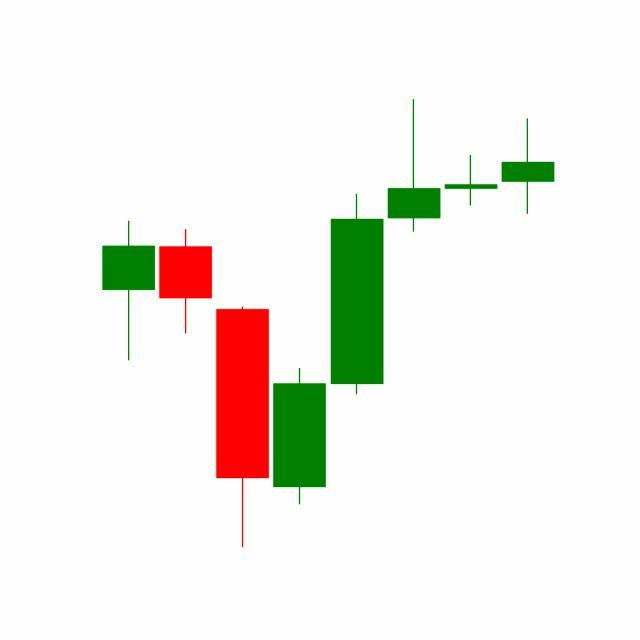Advance Block: (328, 100, 500, 401)
